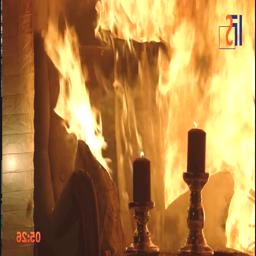fire: (48, 0, 254, 253)
